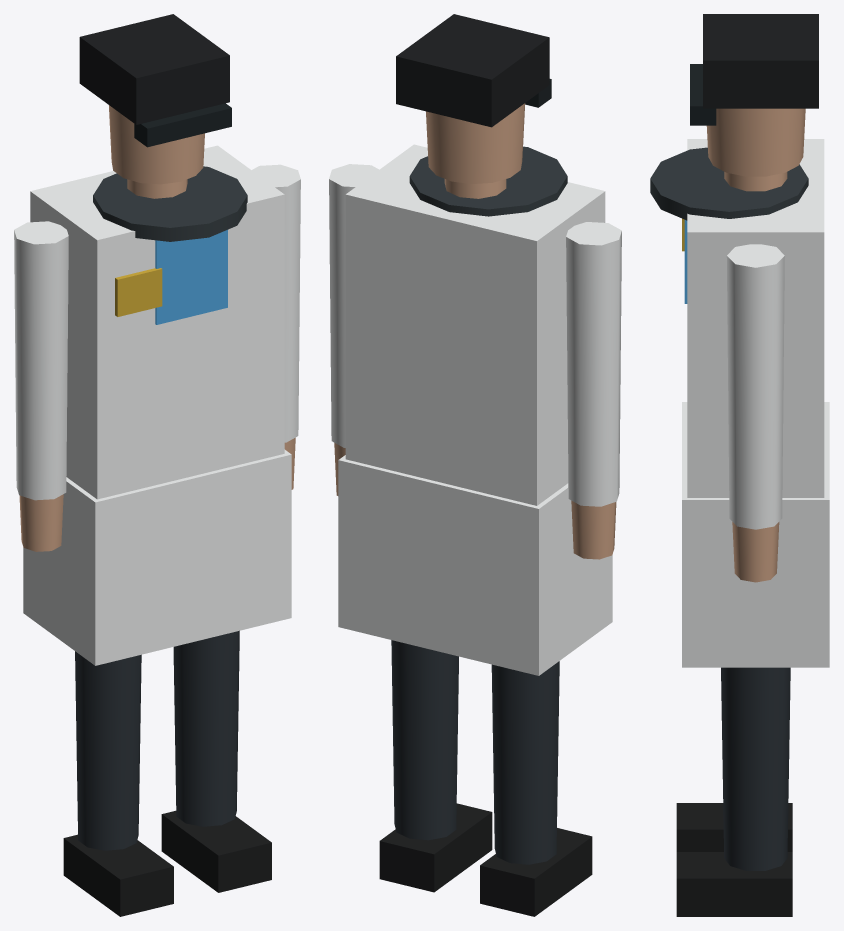
The model's file is dr_speed_placeholder.glb.
3 renders of one model, left to right at view 1: azimuth 30°, elevation 25°; view 2: azimuth 150°, elevation 25°; view 3: azimuth 270°, elevation 25°, orthographic. The views are drawn at different scales.
Visible parts, largest first — view 1: Character_DrSpeed_Placeholder; view 2: Character_DrSpeed_Placeholder; view 3: Character_DrSpeed_Placeholder.
Boxes of the visible parts, box(x1,y1,x2,y2) form: Character_DrSpeed_Placeholder: box(14, 14, 300, 916); Character_DrSpeed_Placeholder: box(329, 14, 621, 916); Character_DrSpeed_Placeholder: box(650, 14, 829, 916).
Bounding box in the file's own units: 0.63 × 1.76 × 0.34.
